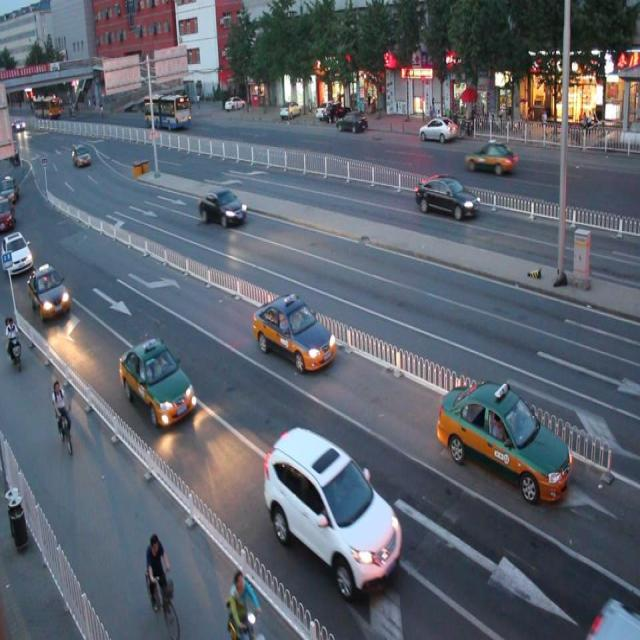car: (262, 425, 403, 594), (437, 378, 572, 500), (250, 288, 335, 371), (119, 338, 196, 425), (413, 171, 479, 221), (28, 262, 72, 318), (198, 185, 246, 229), (465, 140, 518, 176)
